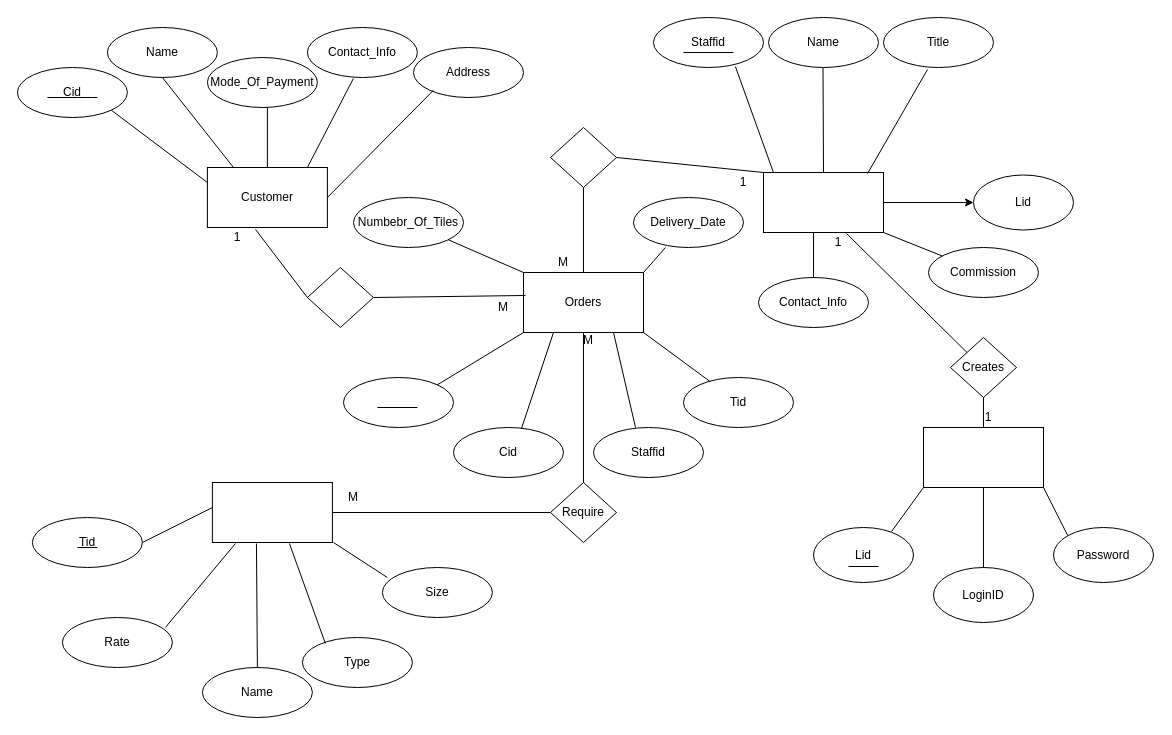
Some shapes in this 1172 by 735 pixel diagram are drawn without their labels. Each missing label, with the centre of its shape:
Login: (983,457)
Oid: (398,402)
Places: (339,297)
Staff: (823,202)
Takes: (583,157)
Tiles: (271,512)
